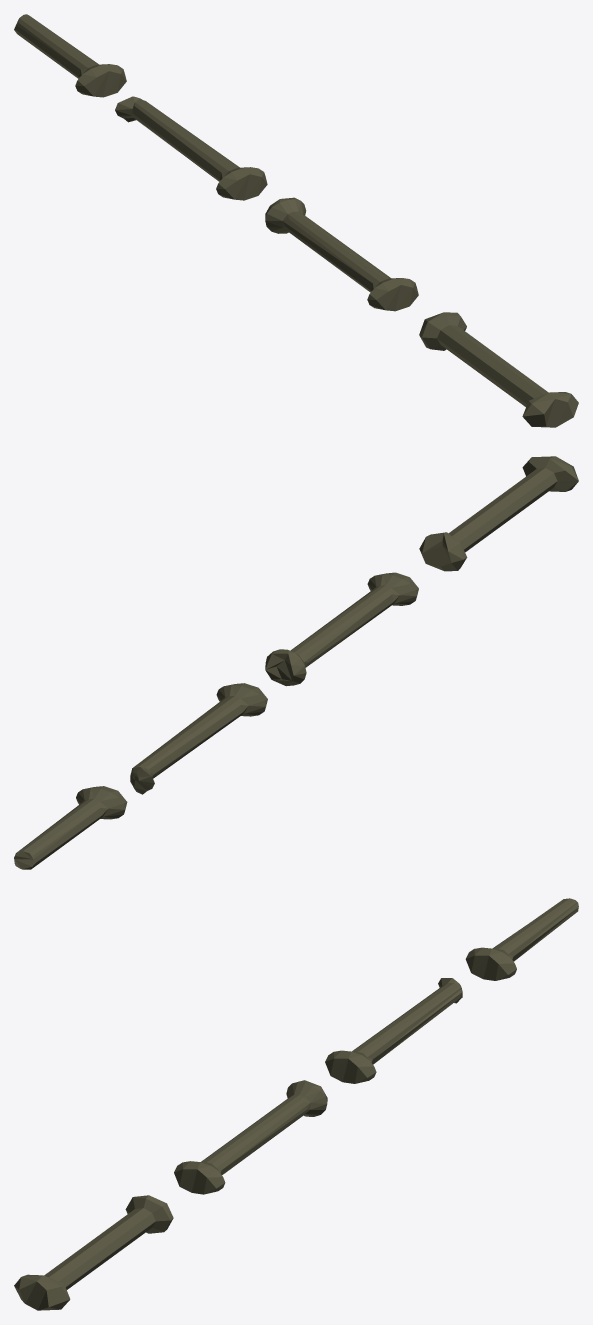
The model's file is BonesCollection.fbx.
3 renders of one model, top to bottom at view 1: azimuth 30°, elevation 25°; view 2: azimuth 150°, elevation 25°; view 3: azimuth 330°, elevation 25°, orthographic.
Visible parts, largest first — view 1: Bone_v2, Bone_v1, Bone_v3, Bone_v4; view 2: Bone_v2, Bone_v1, Bone_v3, Bone_v4; view 3: Bone_v2, Bone_v1, Bone_v3, Bone_v4.
Part boxes in pixels (box(x1,y1,x2,y2)): Bone_v2: box(419, 312, 578, 427); Bone_v1: box(265, 197, 418, 311); Bone_v3: box(115, 96, 267, 200); Bone_v4: box(14, 14, 126, 97); Bone_v2: box(419, 456, 578, 571); Bone_v1: box(265, 572, 418, 686); Bone_v3: box(130, 683, 267, 794); Bone_v4: box(14, 786, 127, 869); Bone_v2: box(14, 1195, 173, 1310); Bone_v1: box(174, 1080, 327, 1194); Bone_v3: box(325, 978, 462, 1083); Bone_v4: box(465, 898, 578, 980).
Bounding box in the file's own units: 58.91 × 972 × 38.05.
